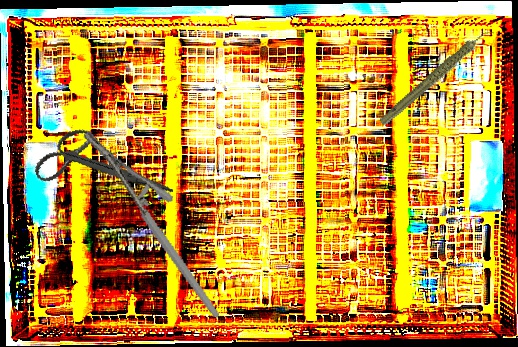Handpiece: (365, 27, 510, 128)
Iris Scissors: (27, 109, 174, 227)
Needle Holder: (81, 108, 220, 340)
